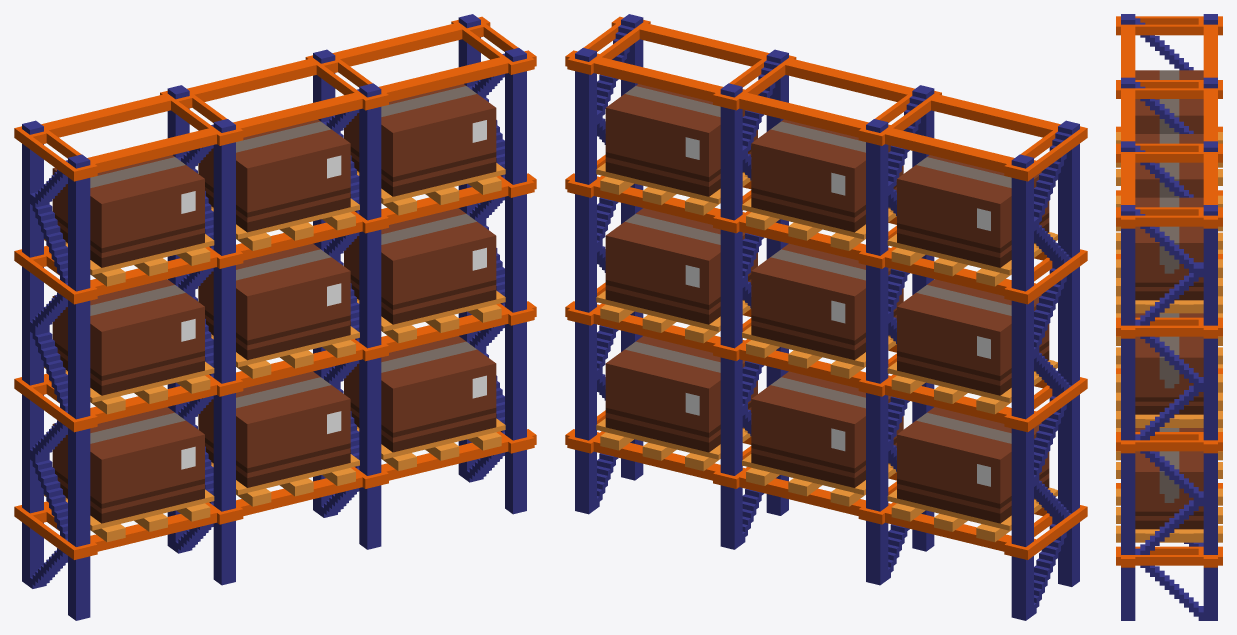
The model's file is estoque3.3.obj.
3 renders of one model, left to right at view 1: azimuth 30°, elevation 25°; view 2: azimuth 150°, elevation 25°; view 3: azimuth 270°, elevation 25°, orthographic. The views are drawn at different scales.
Size of the model in its own units: 9.9 by 9.3 by 2.2.
1 material, 1 textured.
